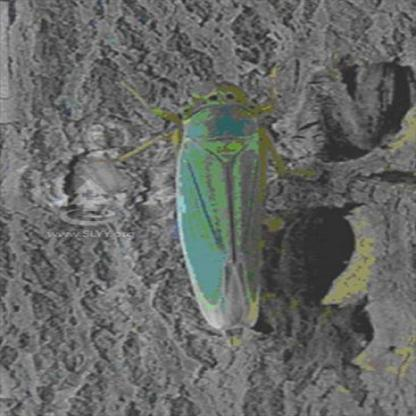Green-Leafhopper: (132, 78, 328, 340)
